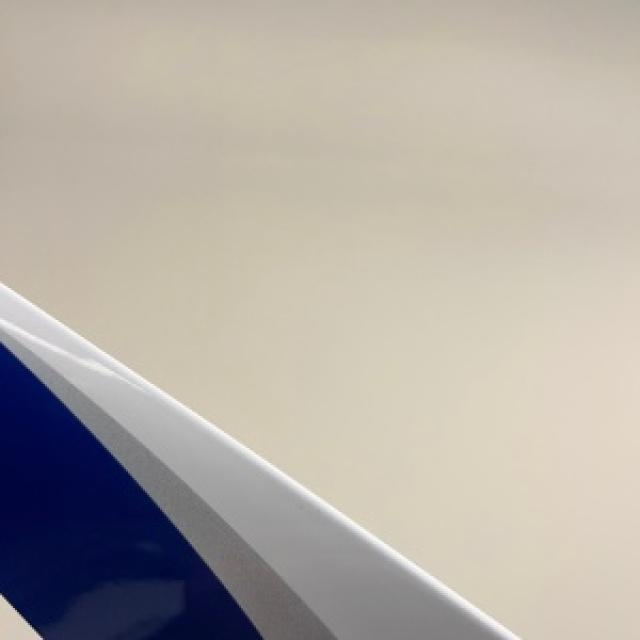healthy: (0, 282, 516, 638)
